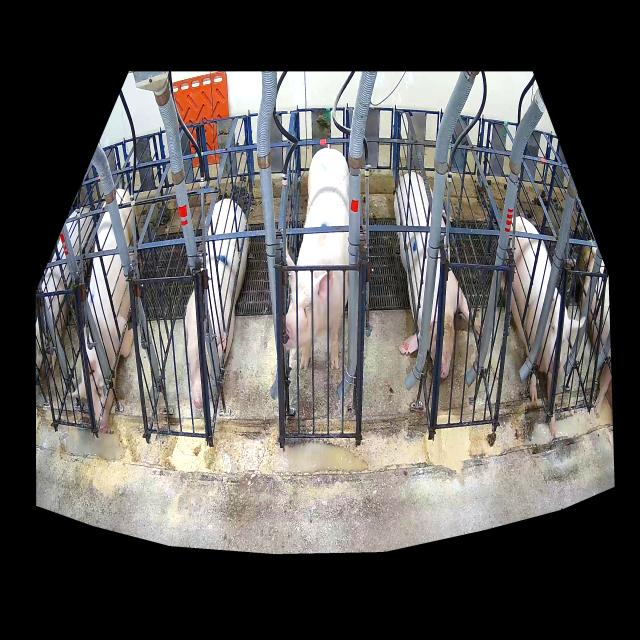pig: (69, 190, 134, 433), (394, 172, 469, 378), (511, 216, 579, 438), (286, 148, 349, 371), (184, 199, 248, 409)
